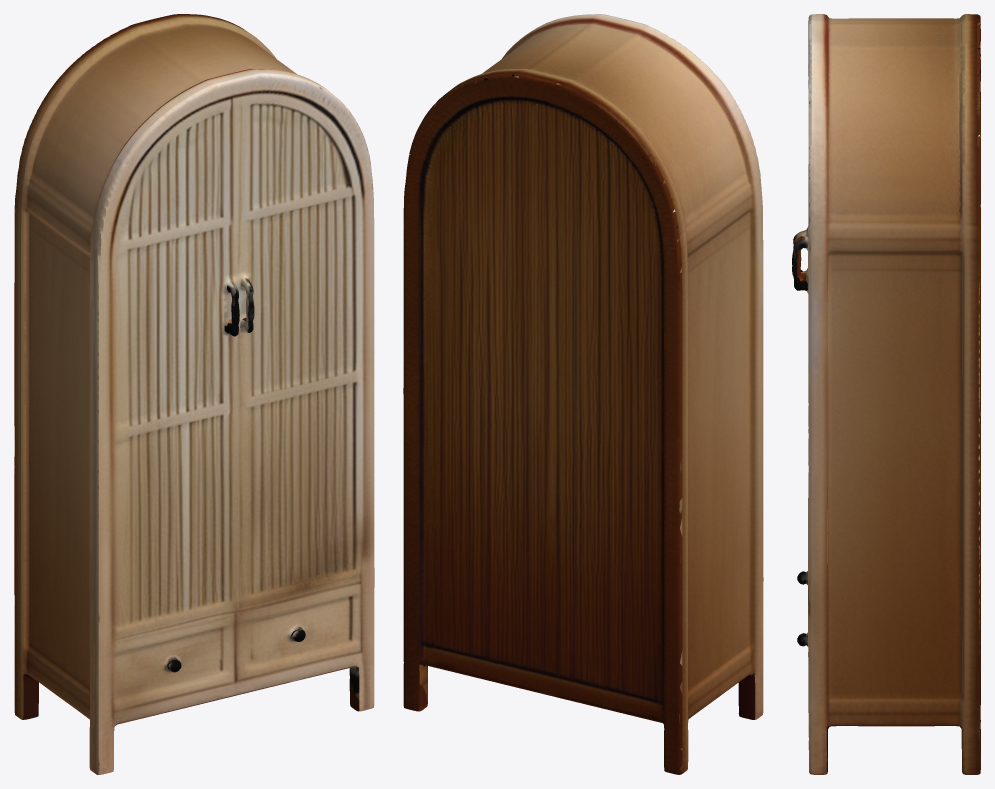
Rendered from wardrobe__wardrobe#5.glb.
3 renders of one model, left to right at view 1: azimuth 30°, elevation 25°; view 2: azimuth 150°, elevation 25°; view 3: azimuth 270°, elevation 25°, orthographic.
Visible parts, largest first — view 1: tmpq7p84jml.ply; view 2: tmpq7p84jml.ply; view 3: tmpq7p84jml.ply.
Boxes of the visible parts, x1,y1,x2,y2 form: tmpq7p84jml.ply: [14, 14, 374, 774]; tmpq7p84jml.ply: [403, 14, 763, 774]; tmpq7p84jml.ply: [792, 14, 980, 774].
Size of the model in its own units: 0.8735 by 1.99 by 0.504.
1 material, 1 textured.
